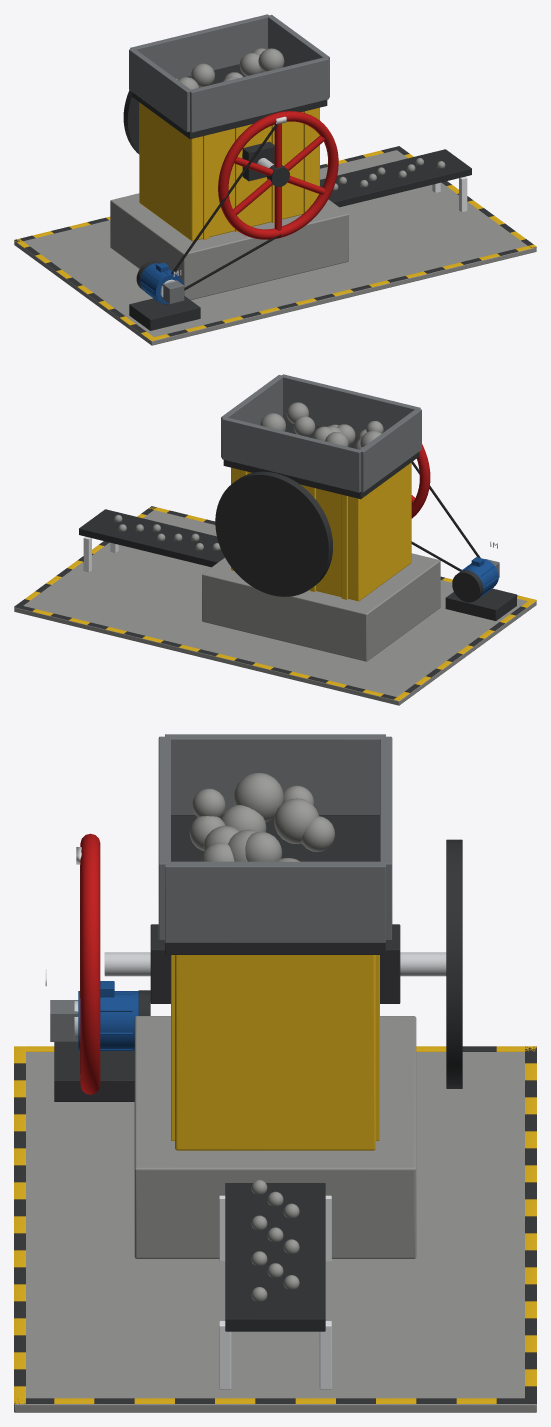
Rendered from machine_crusher.glb.
The picture shows the model from 3 angles, top to bottom: view 1: azimuth 30°, elevation 25°; view 2: azimuth 150°, elevation 25°; view 3: azimuth 270°, elevation 25°; orthographic projection. The views are drawn at different scales.
Parts seen in each view (by area): view 1: frame, fly_mesh; view 2: frame, fly_mesh; view 3: frame, fly_mesh.
Part boxes in pixels (x1,y1,x2,y2): frame: (14, 14, 536, 345); fly_mesh: (218, 111, 338, 239); frame: (14, 374, 536, 705); fly_mesh: (411, 444, 430, 518); frame: (14, 734, 536, 1412); fly_mesh: (76, 833, 100, 1094).
Bounding box in the file's own units: 4.2 × 2.15 × 2.6.
